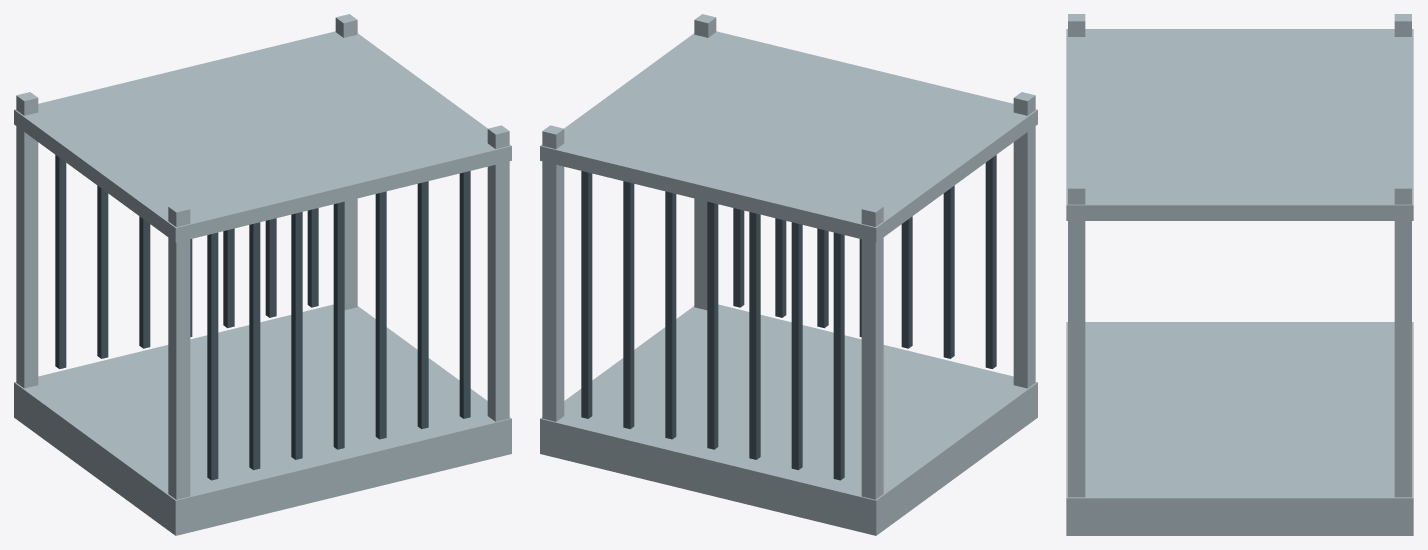
Rendered from mesh-stillage-cage.glb.
The picture shows the model from 3 angles, left to right: view 1: azimuth 30°, elevation 25°; view 2: azimuth 150°, elevation 25°; view 3: azimuth 270°, elevation 25°; orthographic projection. The views are drawn at different scales.
Parts seen in each view (by area): view 1: steel, dark; view 2: steel, dark; view 3: steel.
Part boxes in pixels (x1,y1,x2,y2): steel: (14,14,511,535); dark: (55,155,470,480); steel: (540,14,1037,535); dark: (581,155,996,480); steel: (1066,14,1413,535).
Size of the model in its own units: 1.2 by 1.1 by 1.
